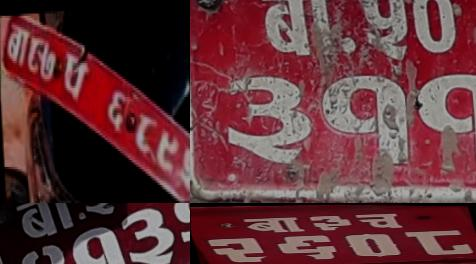0: (259, 0, 340, 61), (14, 203, 75, 240), (340, 232, 406, 258)
1: (171, 203, 190, 249)
2: (202, 235, 273, 264)
3: (317, 68, 413, 173), (412, 65, 476, 172), (68, 221, 132, 264), (306, 213, 356, 232)
5: (18, 240, 79, 264), (177, 134, 190, 195)
6: (357, 0, 413, 60), (270, 233, 344, 262), (106, 78, 128, 138), (75, 203, 116, 218)
7: (38, 31, 56, 82)
8: (399, 227, 476, 255), (134, 98, 157, 160), (26, 25, 44, 78)
9: (153, 118, 178, 173)
ba: (218, 71, 311, 169), (119, 204, 177, 264), (4, 17, 30, 80), (238, 214, 307, 234)
cha: (408, 0, 454, 53), (352, 212, 410, 230)
pa: (61, 40, 90, 107)
